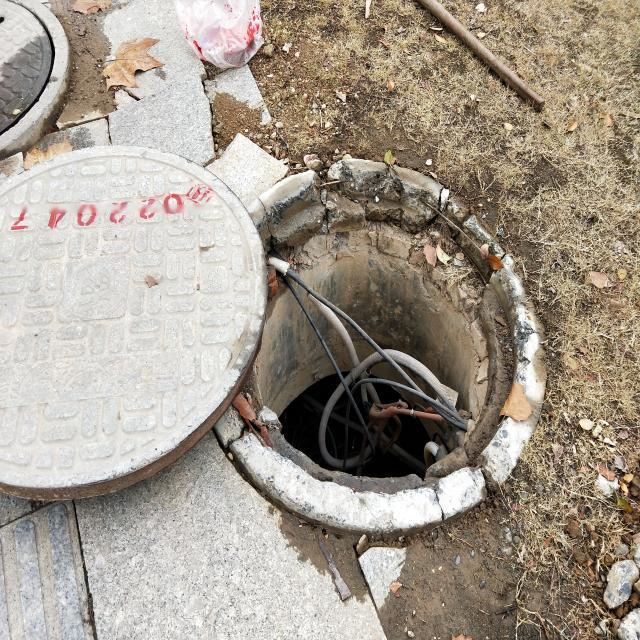Faulty: (0, 145, 546, 529)
